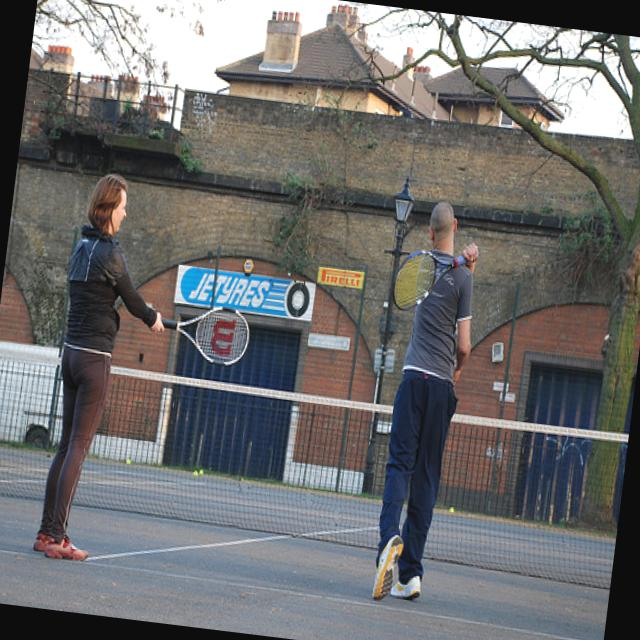Vehicle: (0, 338, 72, 448)
